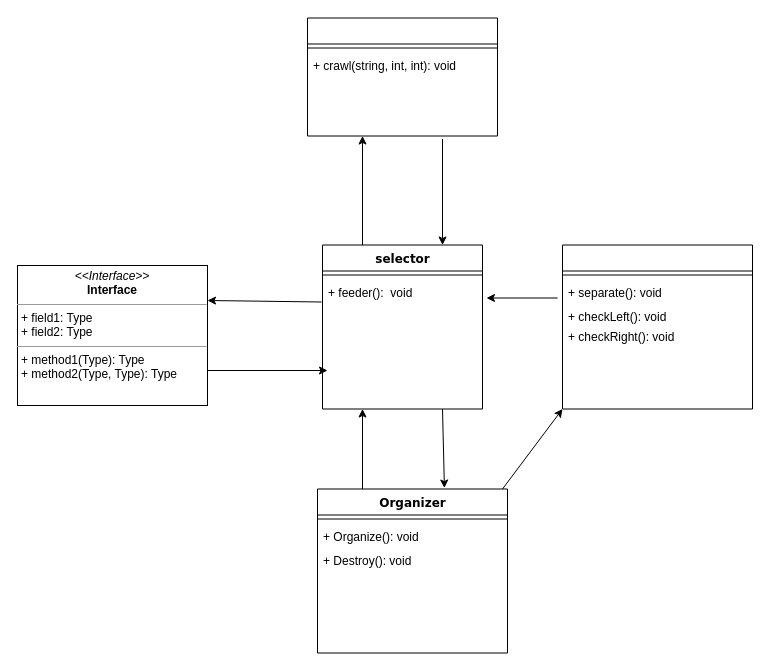
The diagram is 770 pixels wide and 670 high, and some of its shapes have lost their labels. The shapes that lost their labels are listed below. From the top down, each one's box as (x1, y1, x2, y2) in pixels, then its label:
(306, 17, 498, 136): hashCrawler
(562, 244, 752, 409): Analyzer
